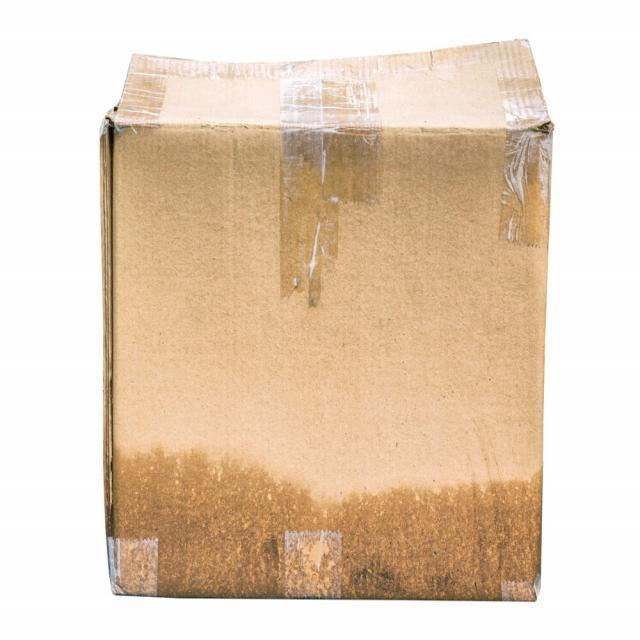wet: (113, 449, 541, 598)
